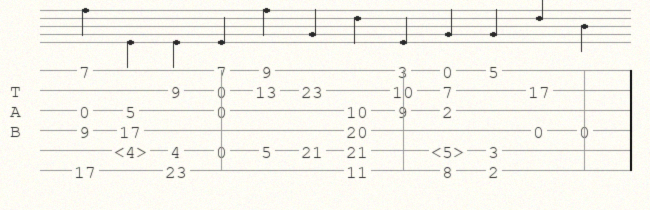0: (79, 103, 94, 118), (216, 103, 231, 118), (216, 143, 231, 158), (216, 83, 231, 98), (442, 63, 457, 78), (533, 123, 548, 138), (579, 123, 594, 138)
10: (346, 103, 372, 118), (392, 83, 418, 98)
11: (346, 163, 372, 178)
13: (255, 83, 281, 98)
17: (74, 163, 100, 178), (119, 123, 145, 138), (528, 83, 554, 98)
2: (442, 103, 457, 118), (488, 163, 503, 178)
20: (346, 123, 372, 138)
21: (301, 143, 327, 158), (346, 143, 372, 158)
23: (165, 163, 191, 178), (301, 83, 327, 98)
3: (397, 63, 412, 78), (488, 143, 503, 158)
4: (170, 143, 185, 158)
5: (125, 103, 140, 118), (261, 143, 276, 158), (488, 63, 503, 78)
7: (79, 63, 94, 78), (216, 63, 231, 78), (442, 83, 457, 98)
8: (442, 163, 457, 178)
9: (79, 123, 94, 138), (170, 83, 185, 98), (261, 63, 276, 78), (397, 103, 412, 118)
harmonic: (114, 143, 151, 158), (431, 143, 468, 158)
